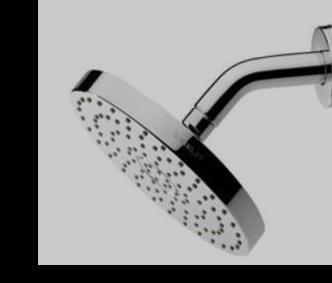Ducha: (68, 15, 332, 259)
